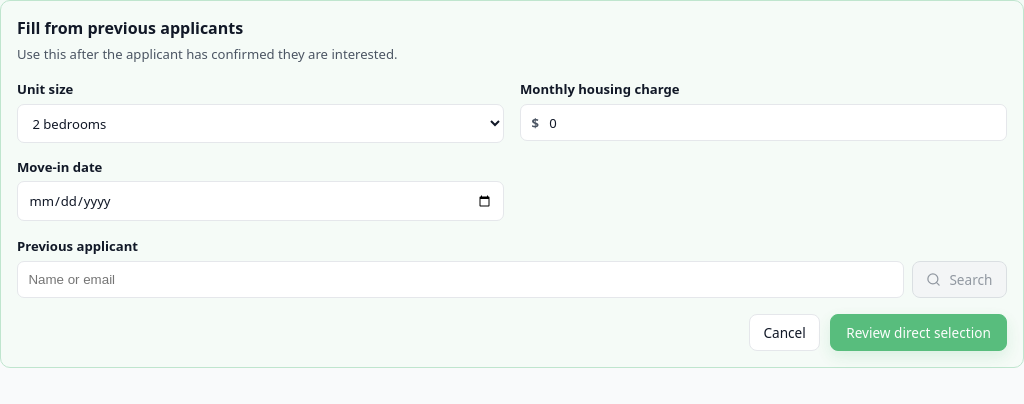
Test: discards results for a search that has been replaced
Type "earlier" into the search field at (460, 279), box [17,260,904,298]
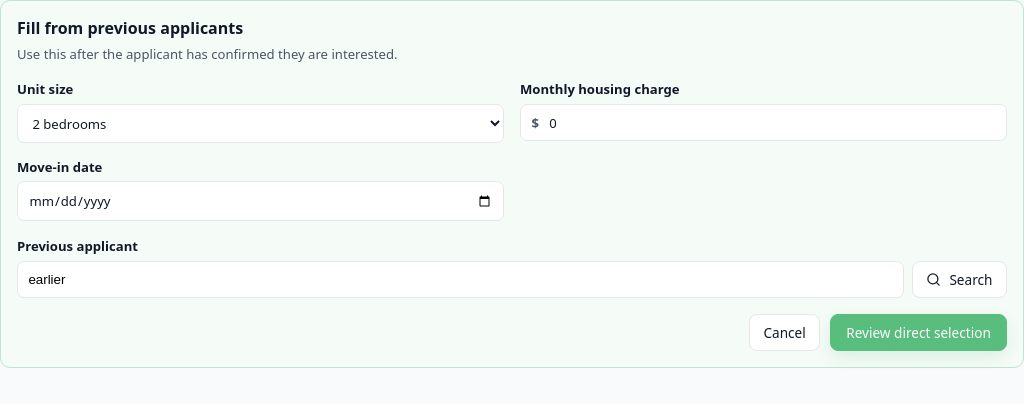
Click the button "Search" at (959, 279), box [912,260,1007,298]
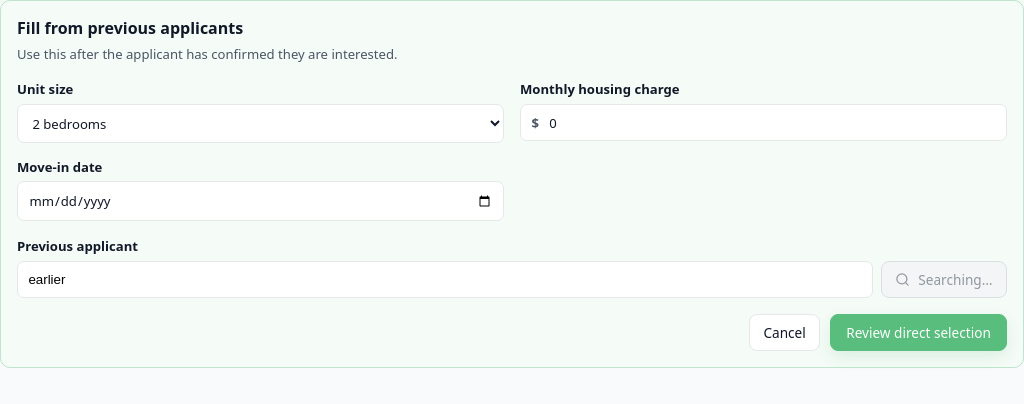
Replace the text in the search field with "newer" at (445, 279), box [17,260,873,298]
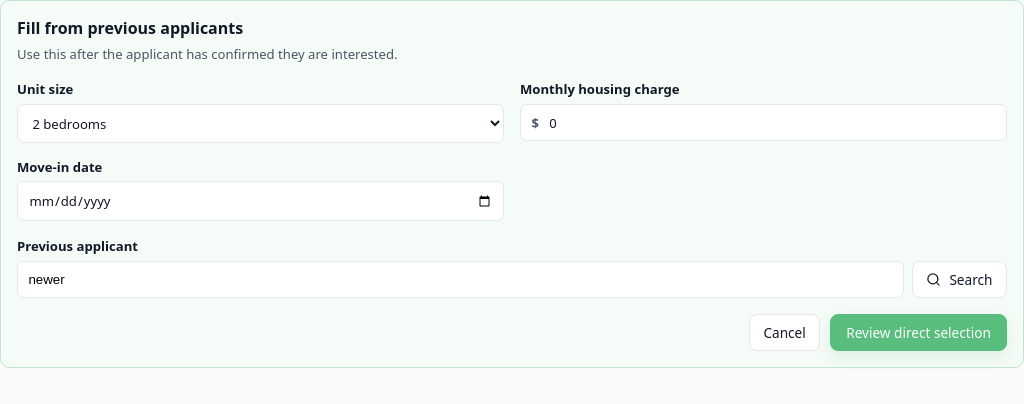
Click the button "Search" at (959, 279), box [912,260,1007,298]
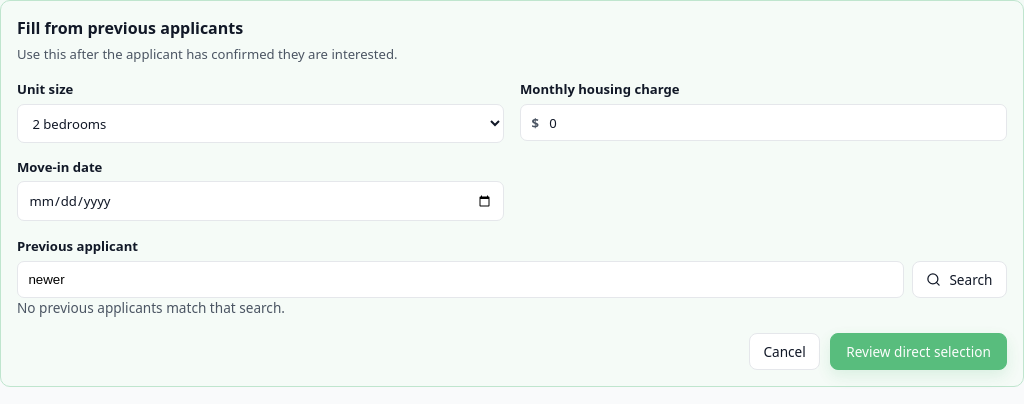
expect the text "No previous applicants match that search." is shown: met, box [17,298,285,316]
